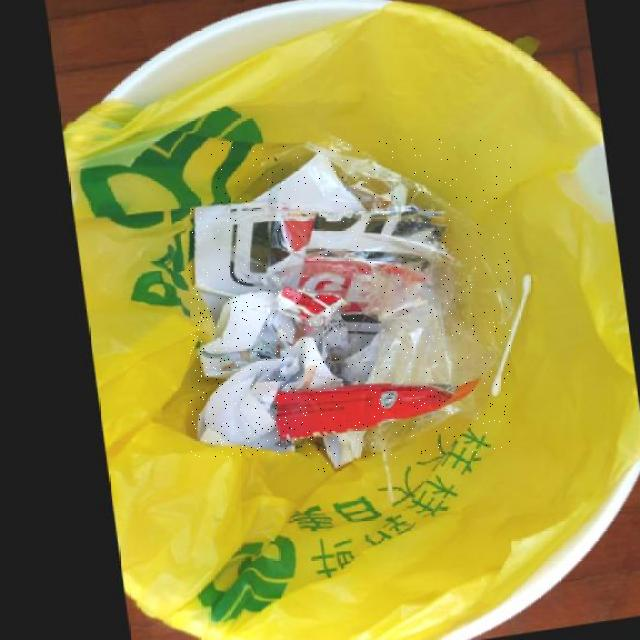paper: (191, 294, 339, 457), (189, 208, 255, 330), (313, 437, 358, 473)
plastic: (211, 139, 512, 458), (267, 386, 473, 449)
wrapper: (271, 293, 342, 334)
